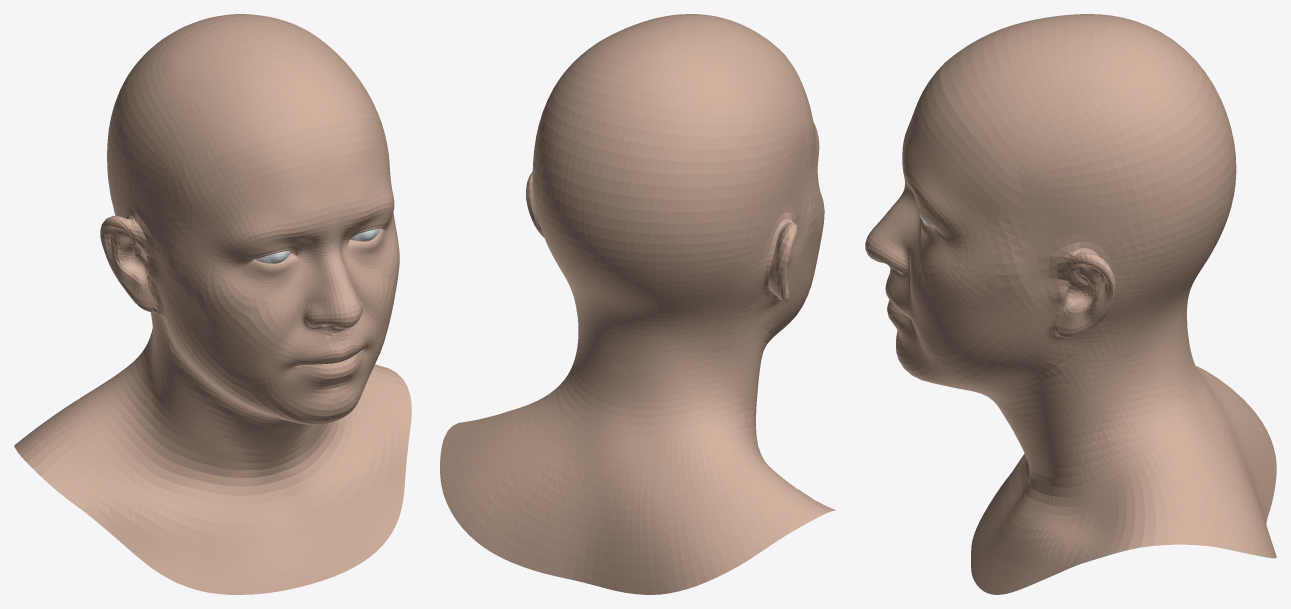
The model's file is gnm-official-head-render.glb.
3 renders of one model, left to right at view 1: azimuth 30°, elevation 25°; view 2: azimuth 150°, elevation 25°; view 3: azimuth 270°, elevation 25°, orthographic. The views are drawn at different scales.
Parts seen in each view (by area): view 1: GNM Official Head v3.0; view 2: GNM Official Head v3.0; view 3: GNM Official Head v3.0.
Boxes of the visible parts, left/top/right/bottom form: GNM Official Head v3.0: left=14, top=14, right=411, bottom=594; GNM Official Head v3.0: left=440, top=14, right=835, bottom=594; GNM Official Head v3.0: left=865, top=14, right=1276, bottom=594.
Bounding box in the file's own units: 0.2554 × 0.3415 × 0.2387.
